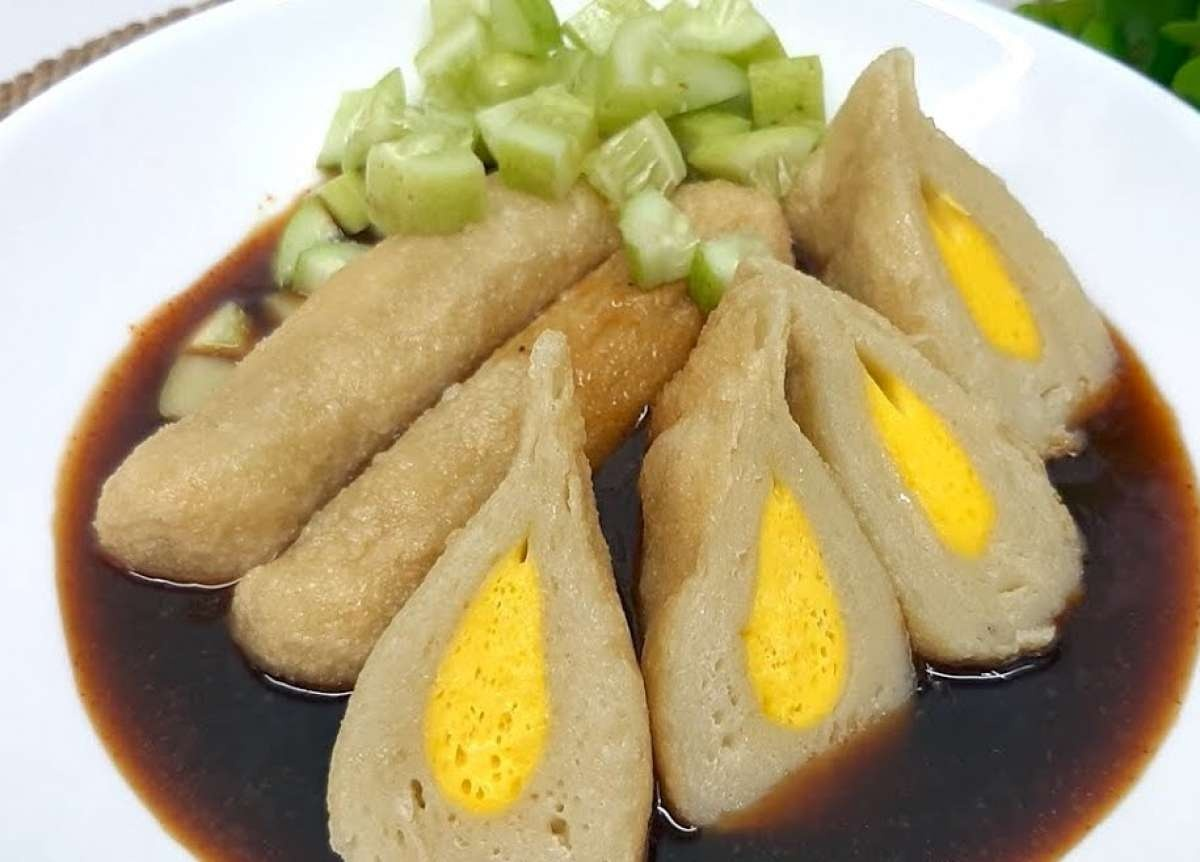pempek: (55, 10, 1153, 843)
